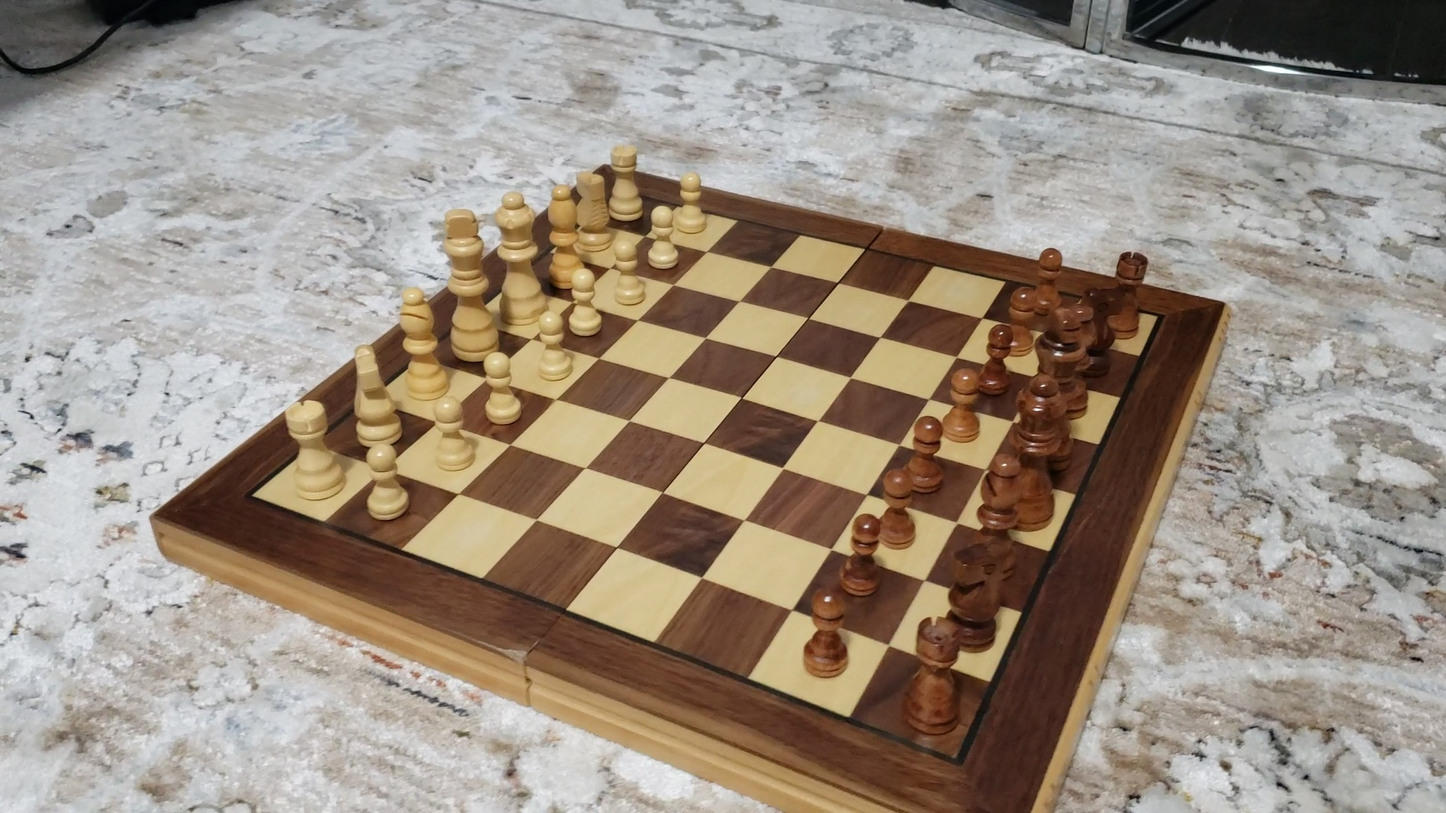black-bishop: (967, 452, 1028, 574)
black-king: (1034, 304, 1094, 409)
black-knight: (946, 538, 1007, 659)
black-pawn: (837, 508, 892, 609), (935, 354, 986, 459), (903, 406, 952, 507), (872, 463, 924, 556), (970, 315, 1020, 400), (803, 586, 848, 678), (1028, 235, 1074, 301), (996, 283, 1044, 344)
black-queen: (1011, 366, 1069, 463)
black-rook: (901, 618, 963, 733), (1102, 250, 1154, 337)
white-bishop: (398, 285, 447, 399), (547, 180, 583, 288)
white-king: (438, 202, 497, 363)
white-knight: (353, 346, 403, 452), (575, 168, 613, 256)
white-pawn: (345, 440, 427, 530), (423, 387, 482, 485), (471, 347, 535, 435), (525, 307, 582, 391), (601, 229, 654, 314), (639, 201, 686, 282), (562, 261, 606, 342), (670, 164, 716, 241)
white-queen: (495, 187, 546, 332)
white-rook: (284, 399, 346, 501), (607, 142, 642, 222)
